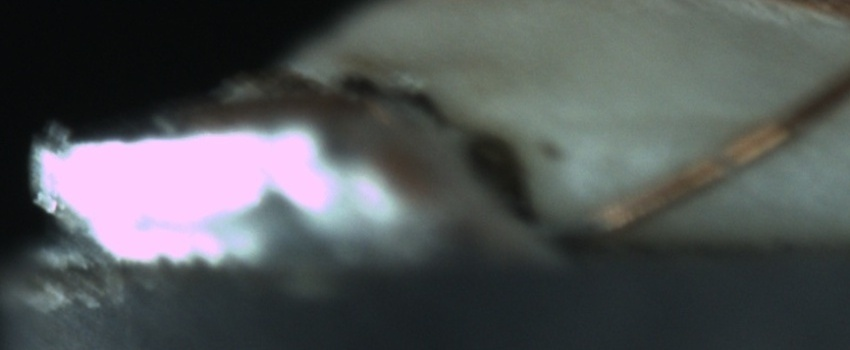DL: (565, 84, 831, 162)
